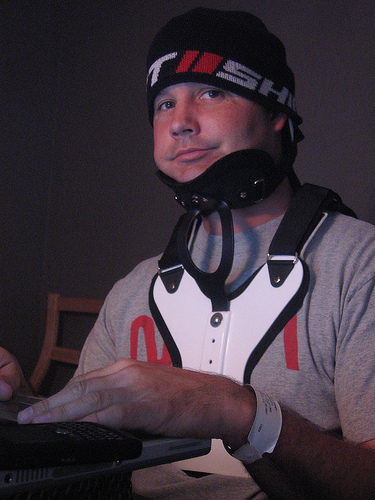helmet: (144, 26, 306, 111)
